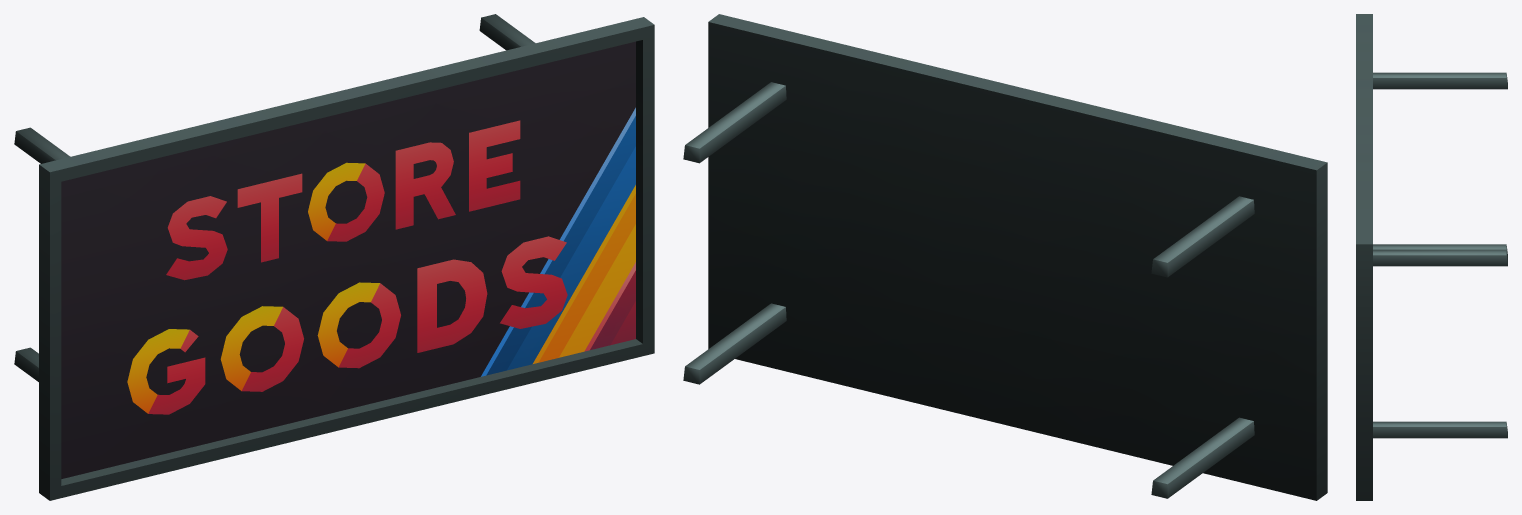
The model's file is Wall_Pannel_1B.fbx.
The picture shows the model from 3 angles, left to right: view 1: azimuth 30°, elevation 25°; view 2: azimuth 150°, elevation 25°; view 3: azimuth 270°, elevation 25°; orthographic projection. The views are drawn at different scales.
Parts seen in each view (by area): view 1: Wall_Pannel_1B; view 2: Wall_Pannel_1B; view 3: Wall_Pannel_1B.
Part boxes in pixels (bbox=[...]): Wall_Pannel_1B: bbox=[14, 14, 654, 500]; Wall_Pannel_1B: bbox=[683, 14, 1327, 500]; Wall_Pannel_1B: bbox=[1356, 14, 1507, 500].
Size of the model in its own units: 1040 by 540 by 290.
